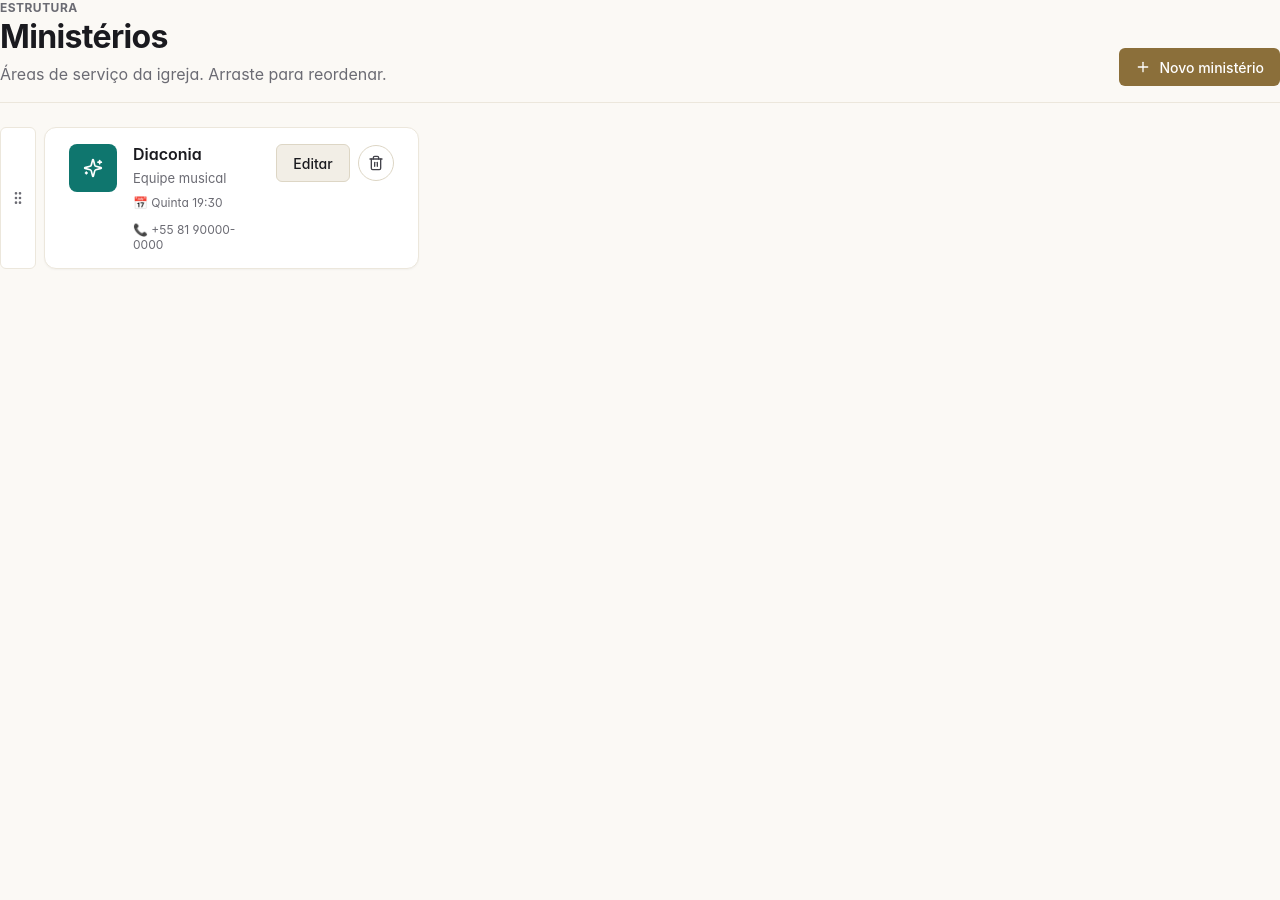
Scenario: MinistriesView › opens the confirm dialog and archives a ministry after confirmation
What coordinates should you click on to do the following:
click the button named "Excluir Diaconia"
I would click on:
 (376, 163)
Its box is top-left (358, 145), bottom-right (394, 181).
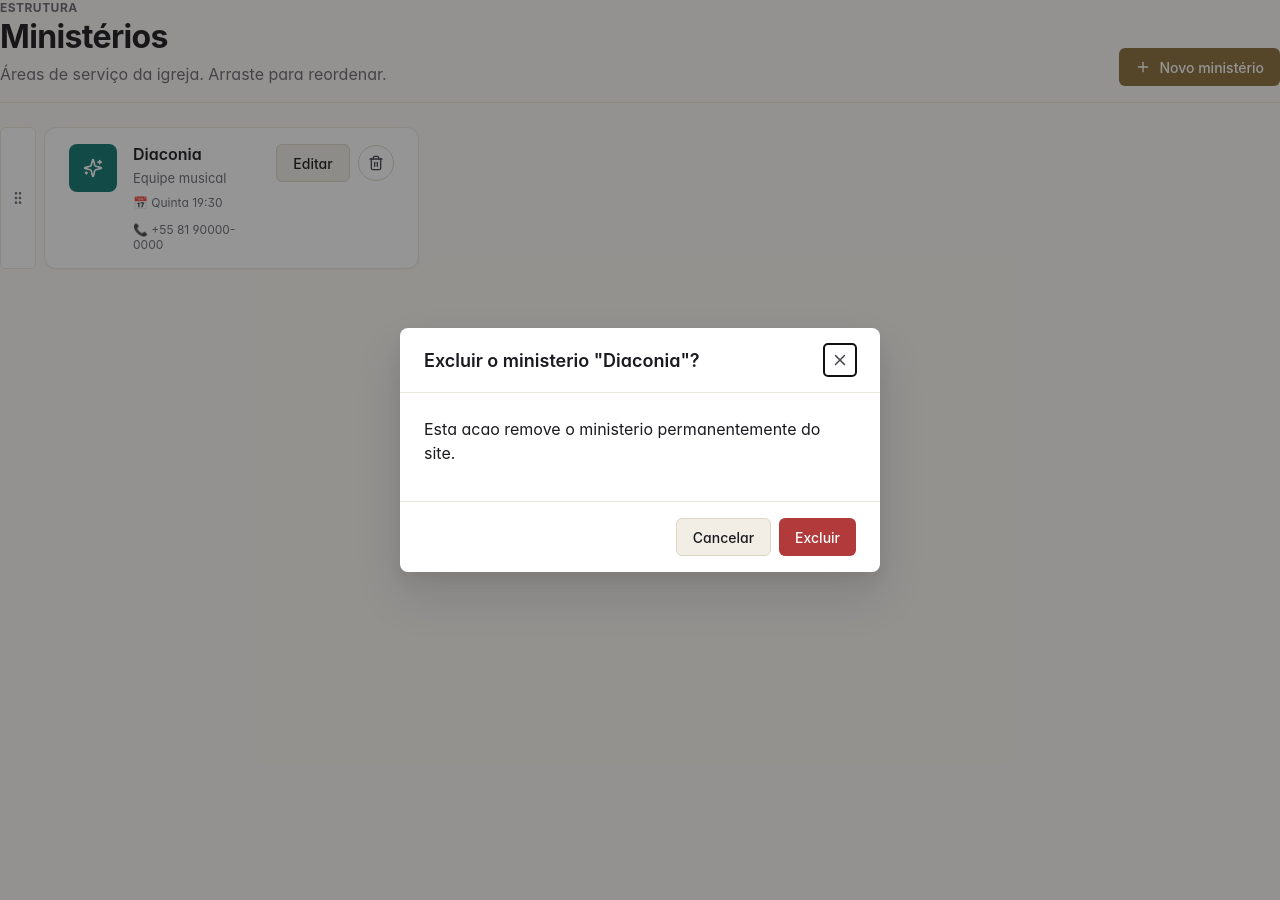
Result: the heading "Excluir o ministerio \"Diaconia\"?" is shown at top-left (424, 350), bottom-right (700, 370)
What coordinates should you click on to do the following:
click the button with test id "confirm-dialog-confirm"
I would click on:
 (818, 537)
Its box is top-left (779, 518), bottom-right (856, 556).
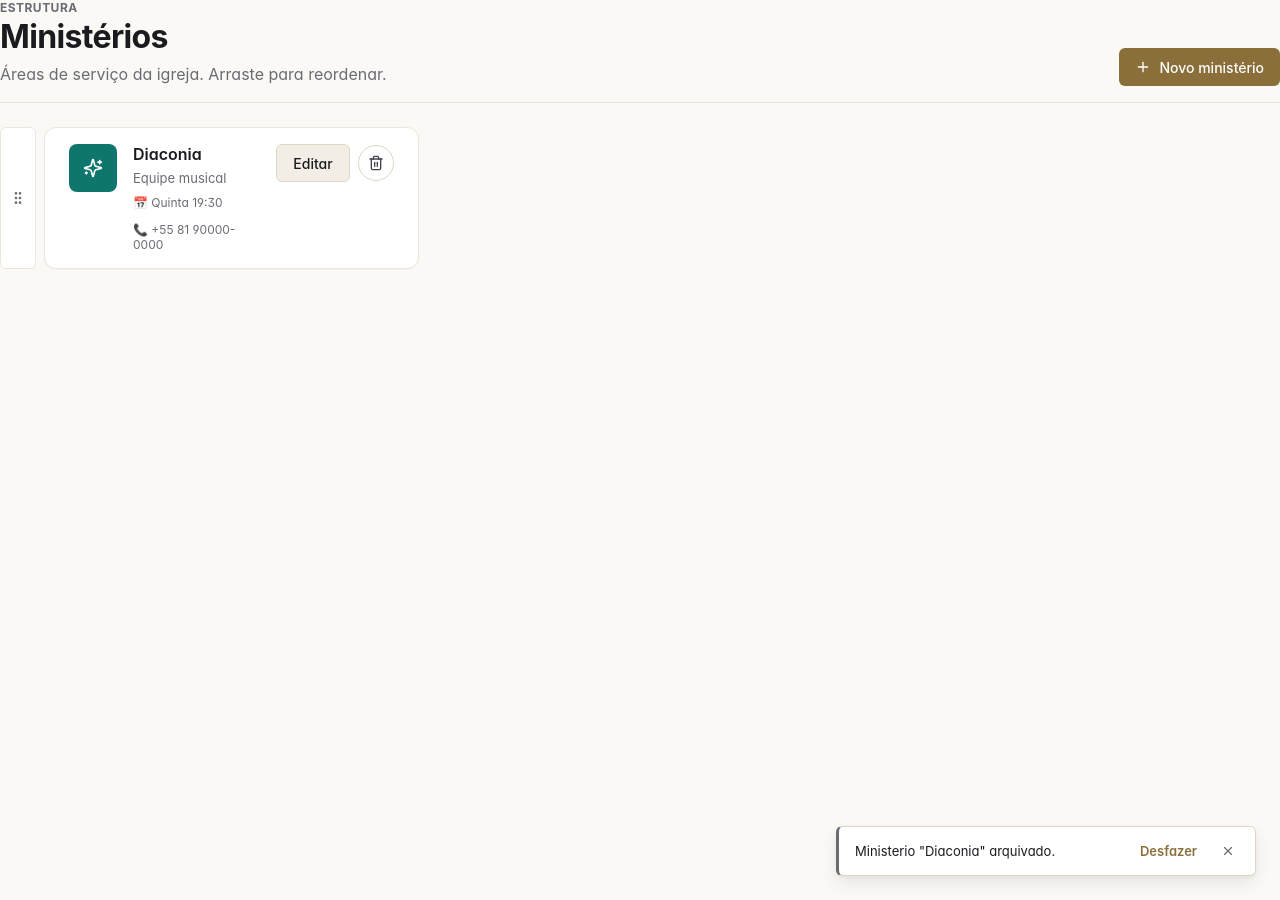
Result: the text "Ministerio \"Diaconia\" arquivado." is shown at top-left (855, 843), bottom-right (1055, 859)
